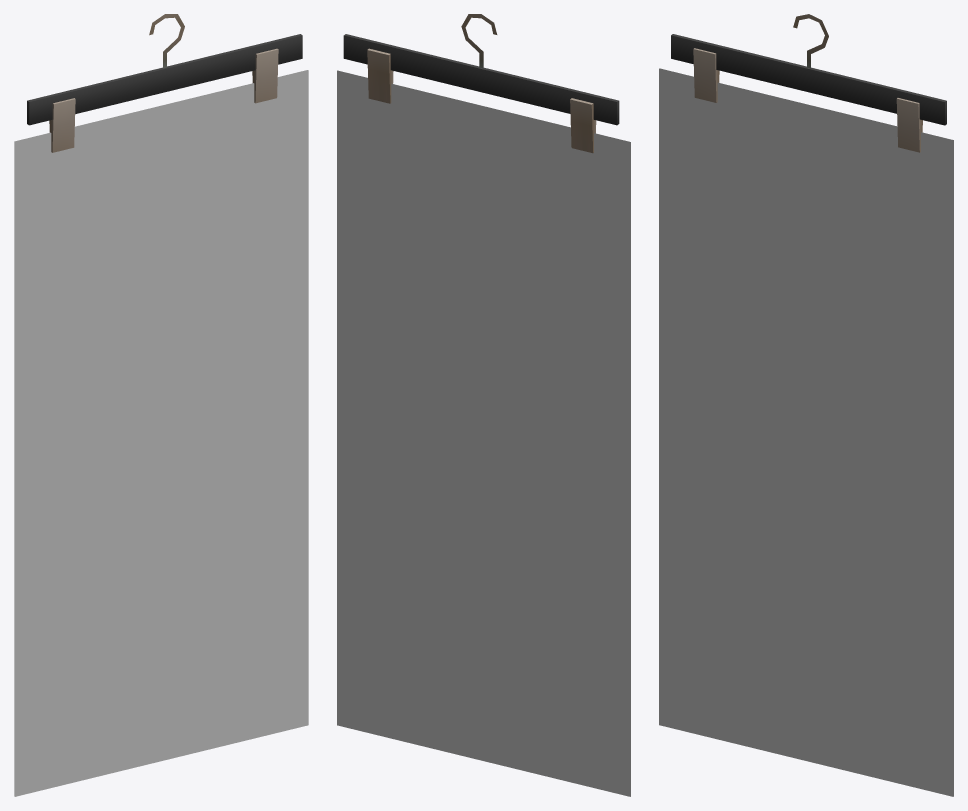
The model's file is Hang_Towel_02.FBX.
3 views of the same model, side by side, from view 1: azimuth 30°, elevation 25°; view 2: azimuth 150°, elevation 25°; view 3: azimuth 330°, elevation 25° (orthographic).
Parts seen in each view (by area): view 1: Hang_Towel_02; view 2: Hang_Towel_02; view 3: Hang_Towel_02.
Part boxes in pixels (x1,y1,x2,y2): Hang_Towel_02: (14, 14, 308, 796); Hang_Towel_02: (337, 14, 630, 796); Hang_Towel_02: (659, 14, 953, 796).
Size of the model in its own units: 0.4782 by 0.0145 by 1.16.
